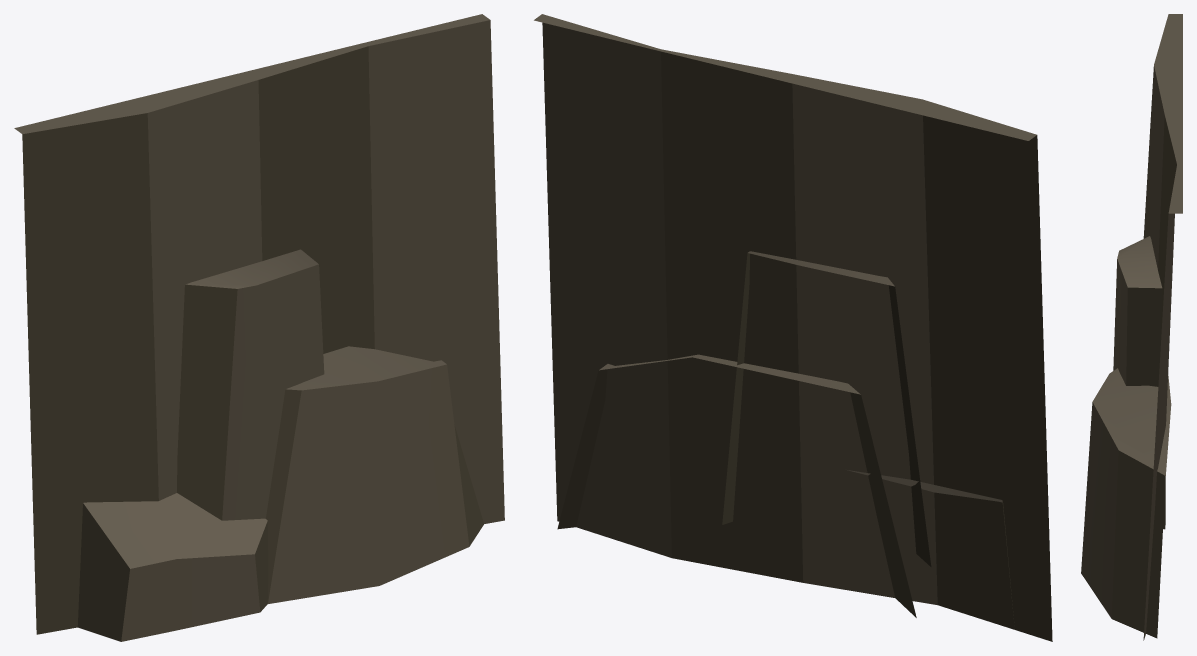
File: SD_Env_Undead_Wall_03.fbx
3 renders of one model, left to right at view 1: azimuth 30°, elevation 25°; view 2: azimuth 150°, elevation 25°; view 3: azimuth 270°, elevation 25°, orthographic. The views are drawn at different scales.
Parts seen in each view (by area): view 1: SD_Env_Undead_Wall_03; view 2: SD_Env_Undead_Wall_03; view 3: SD_Env_Undead_Wall_03.
Boxes of the visible parts, left/top/right/bottom form: SD_Env_Undead_Wall_03: left=14, top=14, right=504, bottom=641; SD_Env_Undead_Wall_03: left=534, top=14, right=1052, bottom=641; SD_Env_Undead_Wall_03: left=1081, top=14, right=1182, bottom=640.
Size of the model in its own units: 5 by 5 by 1.08.
